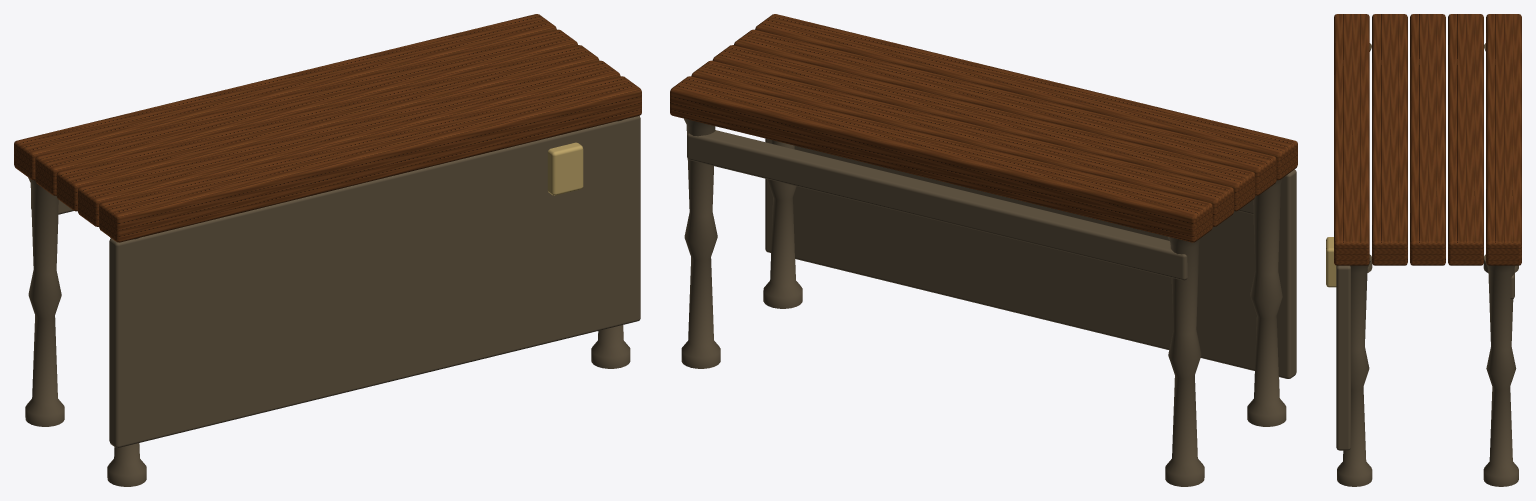
File: undercity-sewers-and-thieves-den-fences-counter-a4b62c44__27233.glb
3 views of the same model, side by side, from view 1: azimuth 30°, elevation 25°; view 2: azimuth 150°, elevation 25°; view 3: azimuth 270°, elevation 25° (orthographic). The views are drawn at different scales.
Parts seen in each view (by area): view 1: fences-counter; view 2: fences-counter; view 3: fences-counter.
Part boxes in pixels (x1,y1,x2,y2): fences-counter: (14,14,641,486); fences-counter: (670,14,1297,486); fences-counter: (1326,14,1521,486).
Bounding box in the file's own units: 2 × 1 × 0.721.
3 materials, 1 textured.
